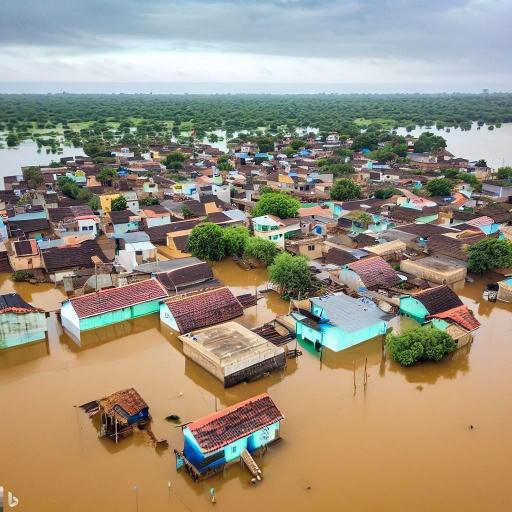flood: (0, 273, 512, 512), (398, 122, 512, 168), (0, 140, 82, 177), (0, 274, 65, 312), (213, 258, 270, 295), (236, 292, 288, 328), (212, 136, 227, 150), (216, 130, 226, 136), (203, 139, 212, 143), (298, 128, 302, 132)
house: (177, 388, 289, 476), (183, 319, 287, 389), (58, 278, 170, 334), (310, 290, 390, 358), (159, 282, 244, 334), (394, 284, 482, 333), (0, 288, 50, 350), (337, 254, 399, 292), (37, 240, 101, 272), (7, 240, 48, 274), (286, 230, 324, 262), (296, 314, 323, 358), (7, 208, 48, 236), (453, 216, 505, 238), (251, 213, 291, 235), (167, 227, 197, 255), (143, 211, 173, 239), (124, 231, 152, 259), (299, 199, 332, 219), (98, 192, 124, 216), (48, 206, 74, 228), (76, 207, 96, 233), (497, 274, 512, 307), (3, 175, 21, 191)
